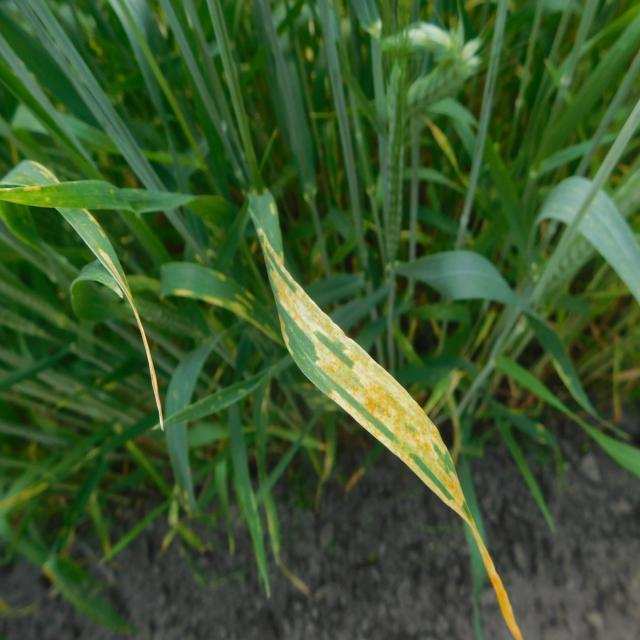Yellow Rust: (248, 190, 521, 639), (55, 206, 162, 428)
